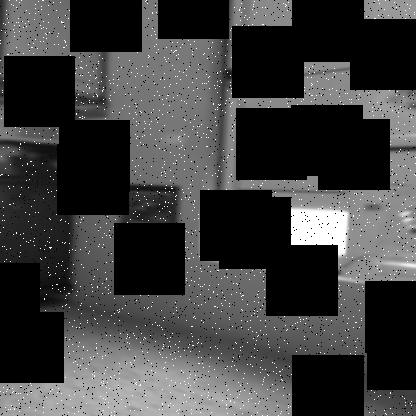Porte: (210, 1, 373, 286)
